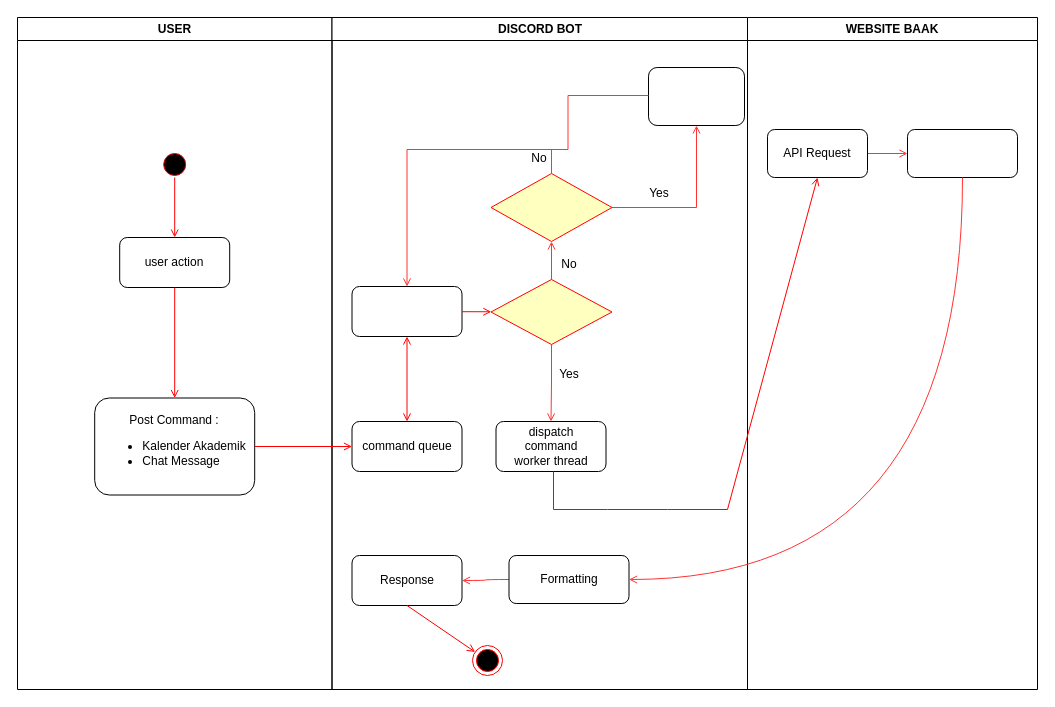
This 1055x707 diagram has some shape labels left out. The centre of each missing label's shape, as x and y in pixels:
"check message for new commands" goes at (x=406, y=311).
"Command Error" goes at (x=551, y=207).
"Command is found" goes at (x=551, y=311).
"Scraping the Information" goes at (x=962, y=153).
"Send Error Message" goes at (x=696, y=96).
